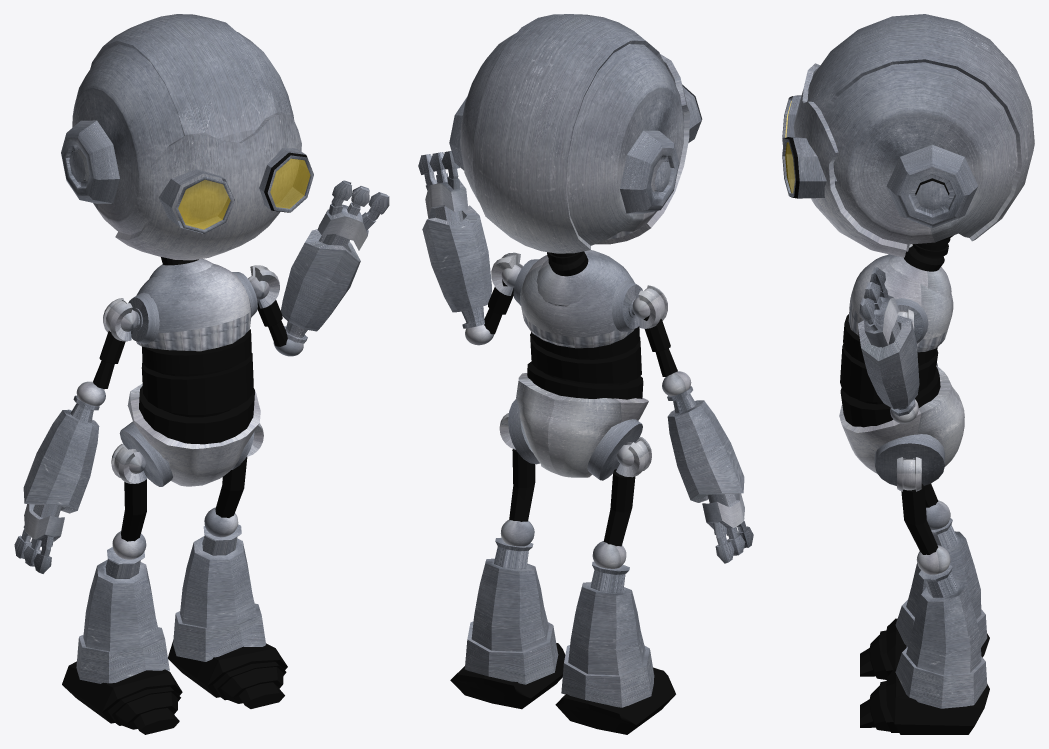
The model's file is marinho.glb.
3 renders of one model, left to right at view 1: azimuth 30°, elevation 25°; view 2: azimuth 150°, elevation 25°; view 3: azimuth 270°, elevation 25°, orthographic.
Parts seen in each view (by area): view 1: polySurface4, pCylinder5, pCylinder13, pCylinder12, pCube1_gray_0, pSphere6, pCylinder20, pCylinder16, pCylinder15, pSphere9, pCube2, pCylinder7 (+11 smaller); view 2: polySurface4, pCylinder13, pCylinder12, pCube1_gray_0, pSphere9, pCylinder5, pSphere6, pCylinder20, pCylinder16, pCylinder15, pCube2, pSphere5 (+14 smaller); view 3: polySurface4, pCylinder12, pCube1_gray_0, pCylinder15, pSphere9, pCylinder5, pSphere6, pCylinder13, pCylinder6, pCylinder16, pCylinder11, pSphere5 (+5 smaller).
Part boxes in pixels (x1,y1,x2,y2): polySurface4: [61, 14, 313, 260]; pCylinder5: [139, 329, 254, 444]; pCylinder13: [76, 547, 169, 683]; pCylinder12: [173, 524, 265, 661]; pCube1_gray_0: [273, 180, 389, 356]; pSphere6: [136, 263, 251, 351]; pCylinder20: [23, 395, 99, 513]; pCylinder16: [62, 661, 182, 734]; pCylinder15: [168, 640, 287, 708]; pSphere9: [127, 383, 260, 486]; pCube2: [14, 504, 64, 573]; pCylinder7: [119, 421, 172, 486]; polySurface4: [449, 14, 702, 253]; pCylinder13: [561, 561, 654, 707]; pCylinder12: [464, 537, 558, 684]; pCube1_gray_0: [418, 151, 494, 345]; pSphere9: [516, 373, 648, 477]; pCylinder5: [527, 326, 643, 399]; pSphere6: [520, 250, 634, 348]; pCylinder20: [667, 386, 744, 502]; pCylinder16: [555, 667, 675, 734]; pCylinder15: [450, 643, 565, 709]; pCube2: [702, 493, 753, 563]; pSphere5: [536, 251, 600, 306]; polySurface4: [782, 14, 1034, 257]; pCylinder12: [895, 564, 987, 708]; pCube1_gray_0: [858, 267, 919, 423]; pCylinder15: [860, 668, 989, 734]; pSphere9: [839, 365, 964, 473]; pCylinder5: [840, 314, 940, 427]; pSphere6: [848, 254, 953, 352]; pCylinder13: [895, 518, 987, 647]; pCylinder6: [874, 434, 944, 485]; pCylinder16: [860, 618, 989, 679]; pCylinder11: [901, 483, 938, 554]; pSphere5: [888, 255, 951, 297].
Bounding box in the file's own units: 9.42 × 17.6 × 6.01.
Materials: 3 (1 with a texture image).
